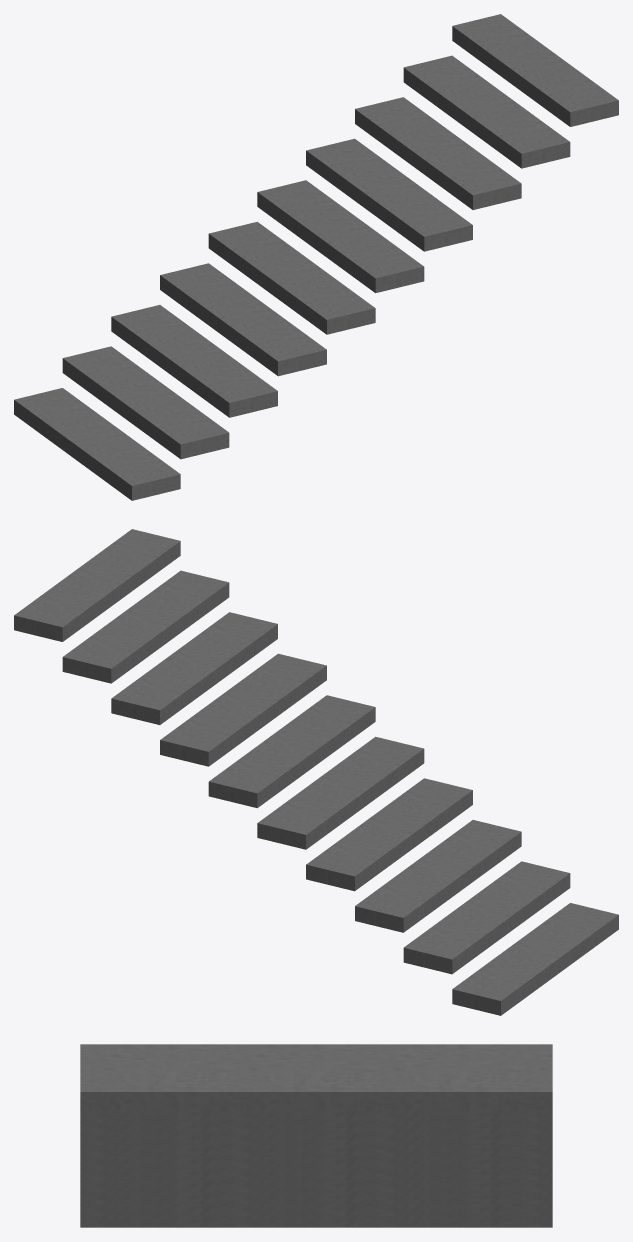
The model's file is stairs.fbx.
3 views of the same model, one above another, from view 1: azimuth 30°, elevation 25°; view 2: azimuth 150°, elevation 25°; view 3: azimuth 270°, elevation 25° (orthographic). The views are drawn at different scales.
Visible parts, largest first — view 1: stairs; view 2: stairs; view 3: stairs.
Part boxes in pixels (x1,y1,x2,y2): stairs: (14, 14, 618, 500); stairs: (14, 529, 618, 1015); stairs: (80, 1044, 552, 1227).
Bounding box in the file's own units: 714 × 395 × 300.
Materials: 1 (1 with a texture image).
